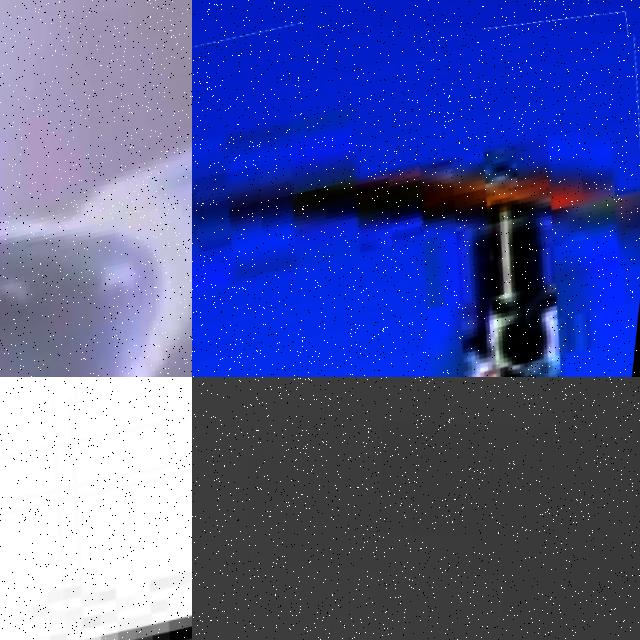drone: (192, 13, 640, 377), (0, 0, 192, 377), (0, 378, 192, 640)
